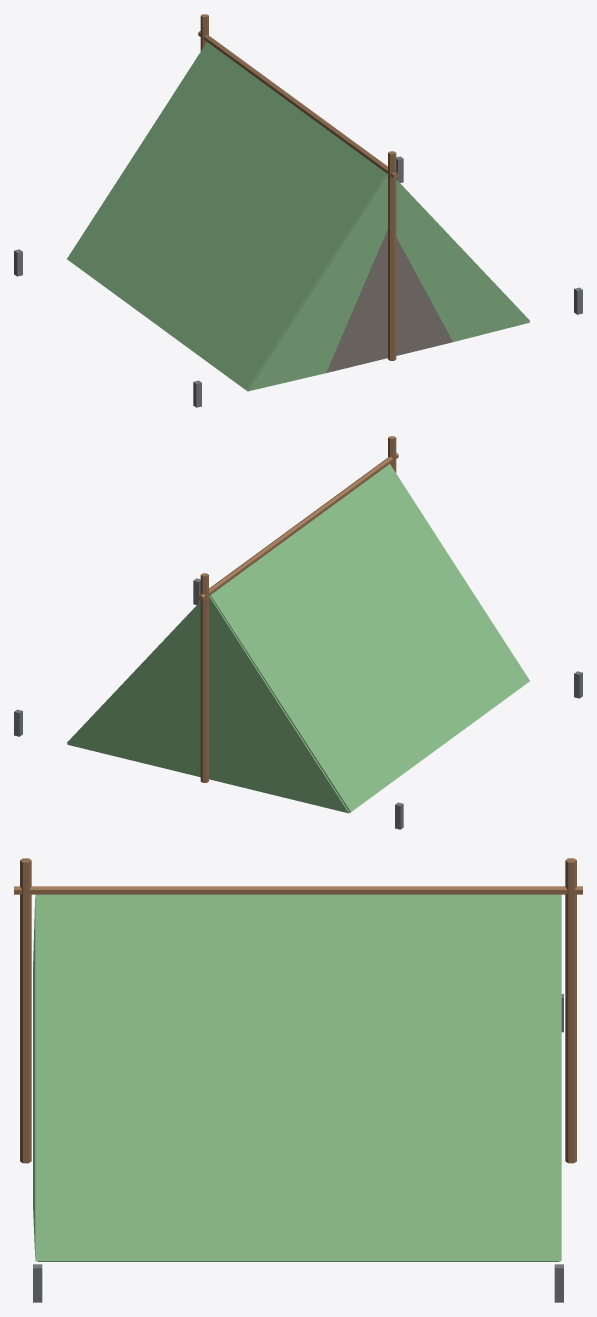
Rendered from SM_Tent_Green.fbx.
3 renders of one model, top to bottom at view 1: azimuth 30°, elevation 25°; view 2: azimuth 150°, elevation 25°; view 3: azimuth 270°, elevation 25°, orthographic. The views are drawn at different scales.
Parts seen in each view (by area): view 1: SM_Tent_Green; view 2: SM_Tent_Green; view 3: SM_Tent_Green.
Boxes of the visible parts, x1,y1,x2,y2 form: SM_Tent_Green: (14, 14, 582, 407); SM_Tent_Green: (14, 436, 582, 829); SM_Tent_Green: (14, 858, 582, 1302).
Bounding box in the file's own units: 2.74 × 1.42 × 2.4.
